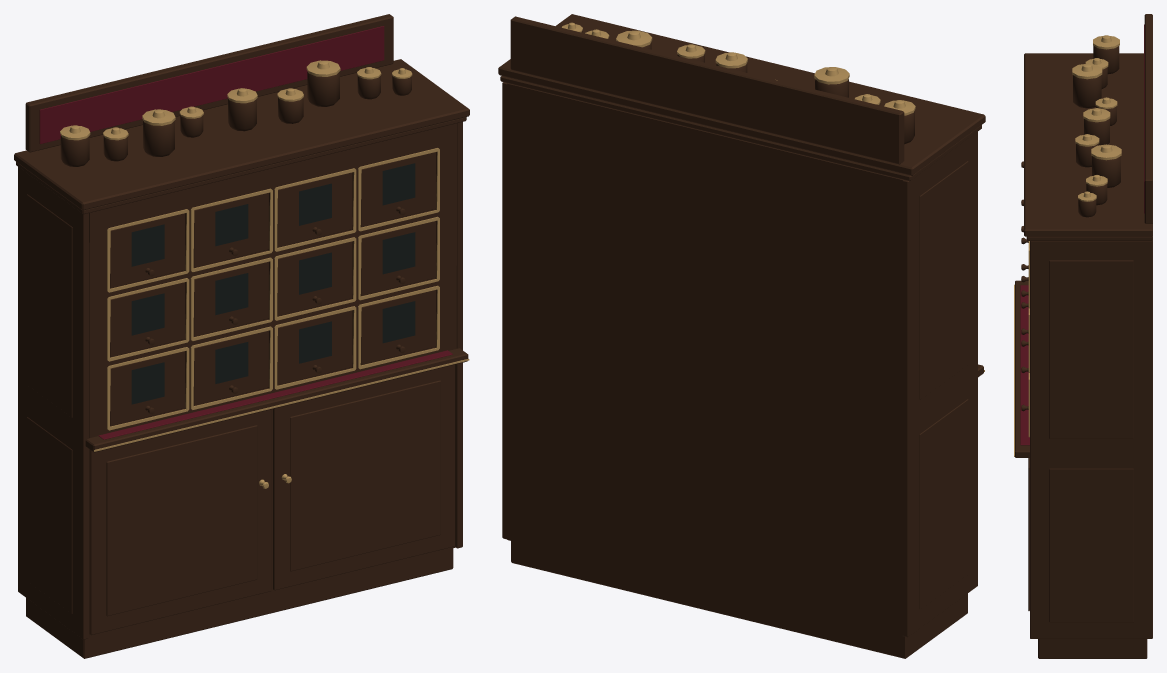
Rendered from seed_library.glb.
The picture shows the model from 3 angles, left to right: view 1: azimuth 30°, elevation 25°; view 2: azimuth 150°, elevation 25°; view 3: azimuth 270°, elevation 25°; orthographic projection. The views are drawn at different scales.
Visible parts, largest first — view 1: seed_library, glyph_panel, IA_seed_drawer_0, IA_seed_drawer_8, IA_seed_drawer_4, IA_seed_drawer_3, IA_seed_drawer_11, IA_seed_drawer_7, IA_seed_drawer_1, IA_seed_drawer_5, IA_seed_drawer_9, IA_seed_drawer_2 (+3 smaller); view 2: seed_library; view 3: seed_library.
Boxes of the visible parts, <box> form: seed_library: <box>14,14,469,658</box>; glyph_panel: <box>131,163,415,404</box>; IA_seed_drawer_0: <box>110,213,185,288</box>; IA_seed_drawer_8: <box>110,351,185,425</box>; IA_seed_drawer_4: <box>110,282,185,356</box>; IA_seed_drawer_3: <box>360,152,436,226</box>; IA_seed_drawer_11: <box>360,290,436,364</box>; IA_seed_drawer_7: <box>360,221,436,295</box>; IA_seed_drawer_1: <box>193,193,268,267</box>; IA_seed_drawer_5: <box>193,261,268,336</box>; IA_seed_drawer_9: <box>193,330,268,405</box>; IA_seed_drawer_2: <box>277,172,352,247</box>; seed_library: <box>498,14,985,658</box>; seed_library: <box>1014,14,1152,658</box>.
Bounding box in the file's own units: 1.53 × 1.93 × 0.508.
